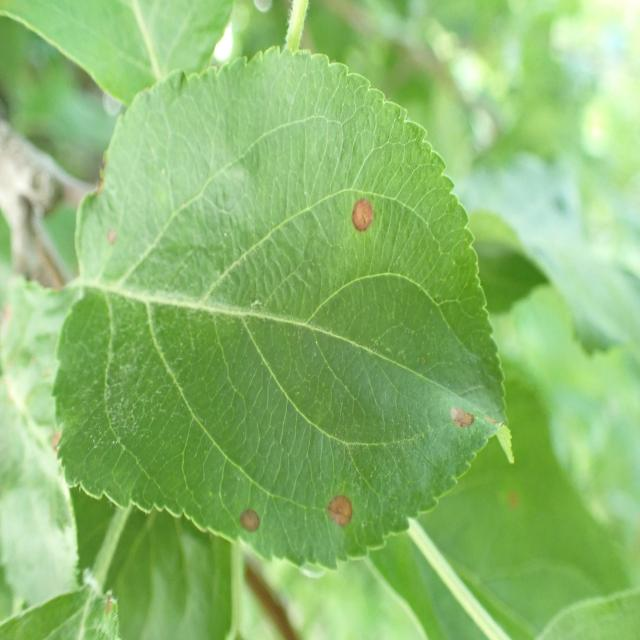Black Rot: (328, 172, 379, 238), (315, 478, 366, 544), (225, 478, 272, 548), (450, 381, 477, 451), (100, 224, 120, 262)
